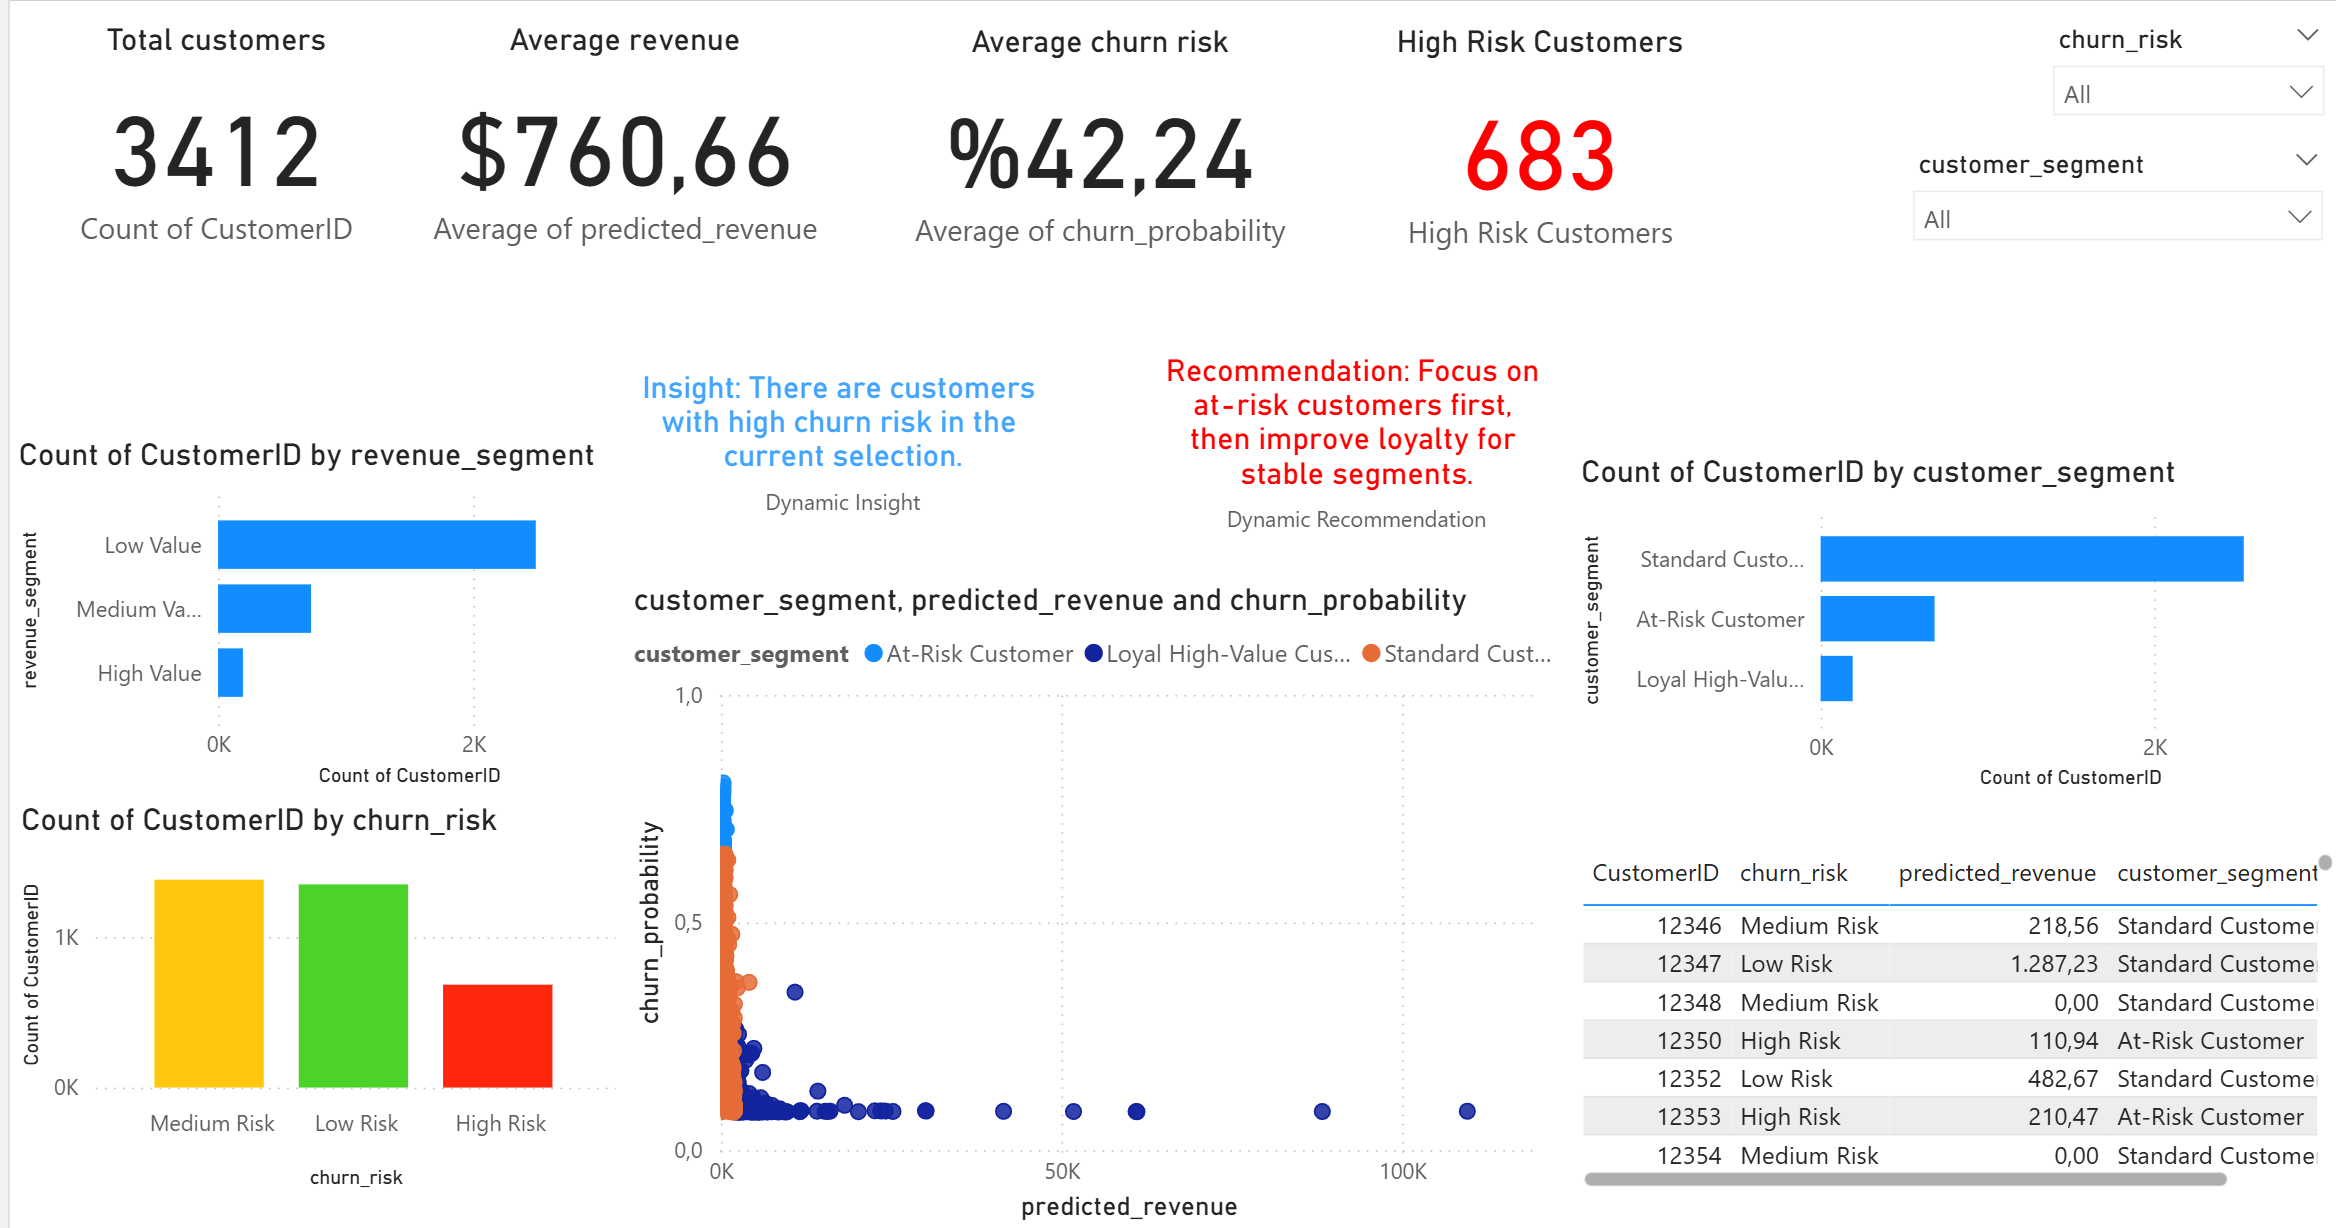

The page's visual inventory and layout, read from the dashboard file:
{"tool":"powerbi","page":{"name":"Page 1","canvas":[1280,720],"ordinal":0},"visuals":[{"type":"card","title":"Total customers","fields":{"Values":["CountNonNull(customer_insights.CustomerID)"]},"box":[16.5,56.3,193.5,130.4],"z":0},{"type":"clusteredBarChart","fields":{"Category":["customer_insights.customer_segment"],"Y":["CountNonNull(customer_insights.CustomerID)"]},"box":[857.4,293.7,422.6,188],"z":1000},{"type":"clusteredBarChart","fields":{"Category":["customer_insights.revenue_segment"],"Y":["CountNonNull(customer_insights.CustomerID)"]},"box":[0,284,336.2,196.2],"z":2000},{"type":"scatterChart","fields":{"Y":["customer_insights.churn_probability"],"X":["customer_insights.predicted_revenue"],"Series":["customer_insights.customer_segment"]},"box":[337.6,363.6,520.1,355.4],"z":3000},{"type":"card","title":"Average revenue","fields":{"Values":["Avg(customer_insights.predicted_revenue)"]},"box":[218.2,56.3,238.8,130.4],"z":4000},{"type":"card","title":"Average churn risk","fields":{"Values":["Avg(customer_insights.churn_probability)"]},"box":[473.4,57.6,249.7,130.4],"z":5000},{"type":"tableEx","fields":{"Values":["customer_insights.CustomerID","customer_insights.churn_risk","customer_insights.predicted_revenue","customer_insights.customer_segment"]},"box":[857.6,507.7,422.6,193.5],"z":6000},{"type":"card","title":"High Risk Customers","fields":{"Values":["customer_insights.High Risk Customers"]},"box":[723.2,57.6,233.3,131.7],"z":7000},{"type":"columnChart","fields":{"Category":["customer_insights.churn_risk"],"Y":["CountNonNull(customer_insights.CustomerID)"]},"box":[1.4,484.4,336.2,216.8],"z":8000},{"type":"slicer","fields":{"Values":["customer_insights.churn_risk"]},"box":[1111.5,52.1,168.8,85.1],"z":9000},{"type":"slicer","fields":{"Values":["customer_insights.customer_segment"]},"box":[1035.1,120.6,244.9,84.5],"z":10000},{"type":"card","fields":{"Values":["customer_insights.Dynamic Insight"]},"box":[332.1,208.6,249.7,150.9],"z":11000},{"type":"card","fields":{"Values":["customer_insights.Dynamic Recommendation"]},"box":[623,208.6,231.9,150.9],"z":12000}]}

Visuals, with their boxes on the page's 1280x720 design canvas (x1, y1, x2, y2). These are canvas units, not pixel positions in the 2336x1228 screenshot, which may show the page scaled, cropped or inside an application window:
"Total customers" card: 16 56 210 187
clusteredBarChart - customer_insights.customer_segment x CountNonNull(customer_insights.CustomerID): 857 294 1280 482
clusteredBarChart - customer_insights.revenue_segment x CountNonNull(customer_insights.CustomerID): 0 284 336 480
scatterChart - customer_insights.churn_probability x customer_insights.predicted_revenue: 338 364 858 719
"Average revenue" card: 218 56 457 187
"Average churn risk" card: 473 58 723 188
tableEx - customer_insights.CustomerID x customer_insights.churn_risk: 858 508 1280 701
"High Risk Customers" card: 723 58 956 189
columnChart - customer_insights.churn_risk x CountNonNull(customer_insights.CustomerID): 1 484 338 701
slicer - customer_insights.churn_risk: 1112 52 1280 137
slicer - customer_insights.customer_segment: 1035 121 1280 205
card - customer_insights.Dynamic Insight: 332 209 582 360
card - customer_insights.Dynamic Recommendation: 623 209 855 360
